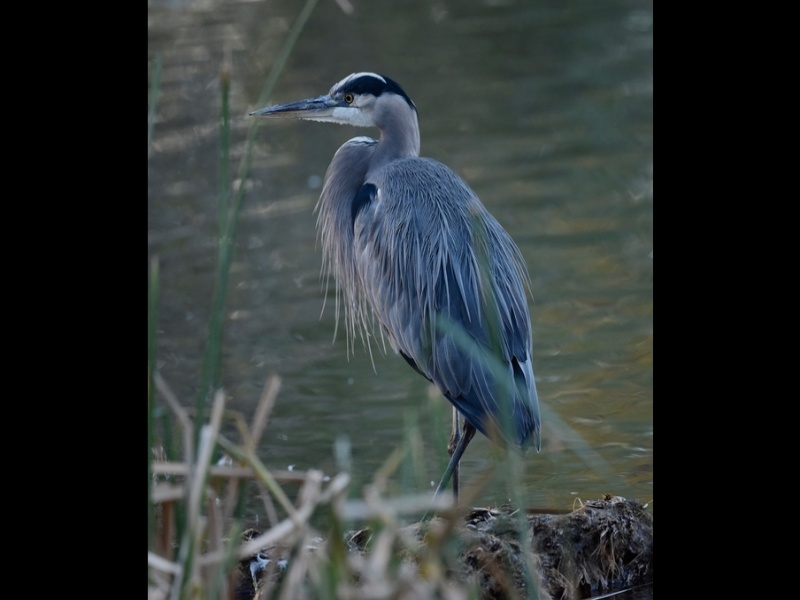heron: (247, 68, 545, 488)
